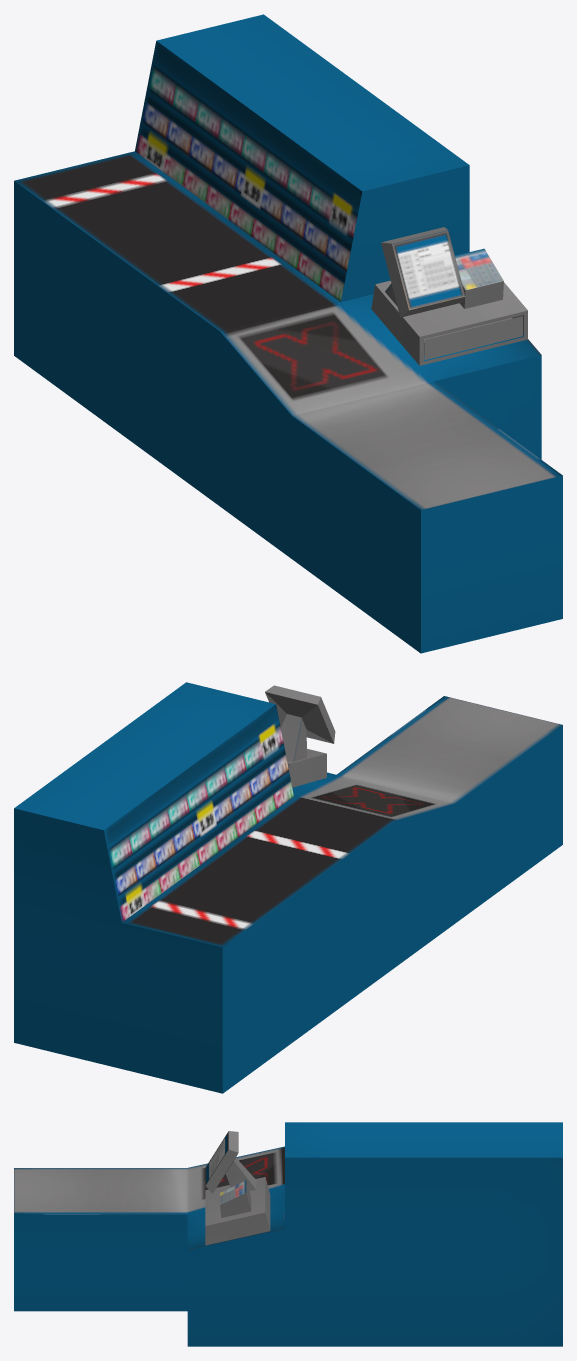
File: Cash_Register.fbx
The picture shows the model from 3 angles, top to bottom: view 1: azimuth 30°, elevation 25°; view 2: azimuth 150°, elevation 25°; view 3: azimuth 270°, elevation 25°; orthographic projection. The views are drawn at different scales.
Parts seen in each view (by area): view 1: Cash_Register; view 2: Cash_Register; view 3: Cash_Register.
Boxes of the visible parts, x1=… form: Cash_Register: x1=14, y1=14, x2=562, y2=653; Cash_Register: x1=14, y1=682, x2=562, y2=1093; Cash_Register: x1=14, y1=1122, x2=562, y2=1346.
Size of the model in its own units: 1.6 by 1.72 by 4.51.
